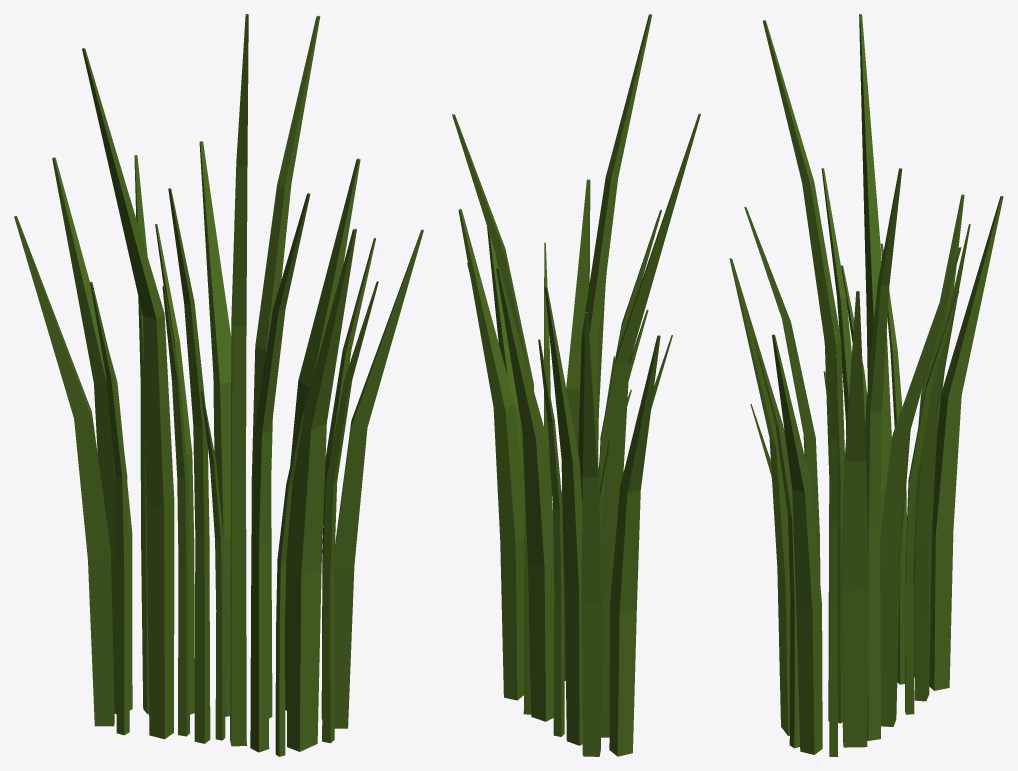
Rendered from Grass.fbx.
3 views of the same model, side by side, from view 1: azimuth 30°, elevation 25°; view 2: azimuth 150°, elevation 25°; view 3: azimuth 270°, elevation 25° (orthographic). The views are drawn at different scales.
Parts seen in each view (by area): view 1: Cube.024; view 2: Cube.024; view 3: Cube.024.
Part boxes in pixels (bbox=[...]): Cube.024: bbox=[14, 14, 423, 756]; Cube.024: bbox=[452, 14, 700, 756]; Cube.024: bbox=[729, 14, 1003, 756].
Size of the model in its own units: 0.3356 by 0.8076 by 0.2929.
